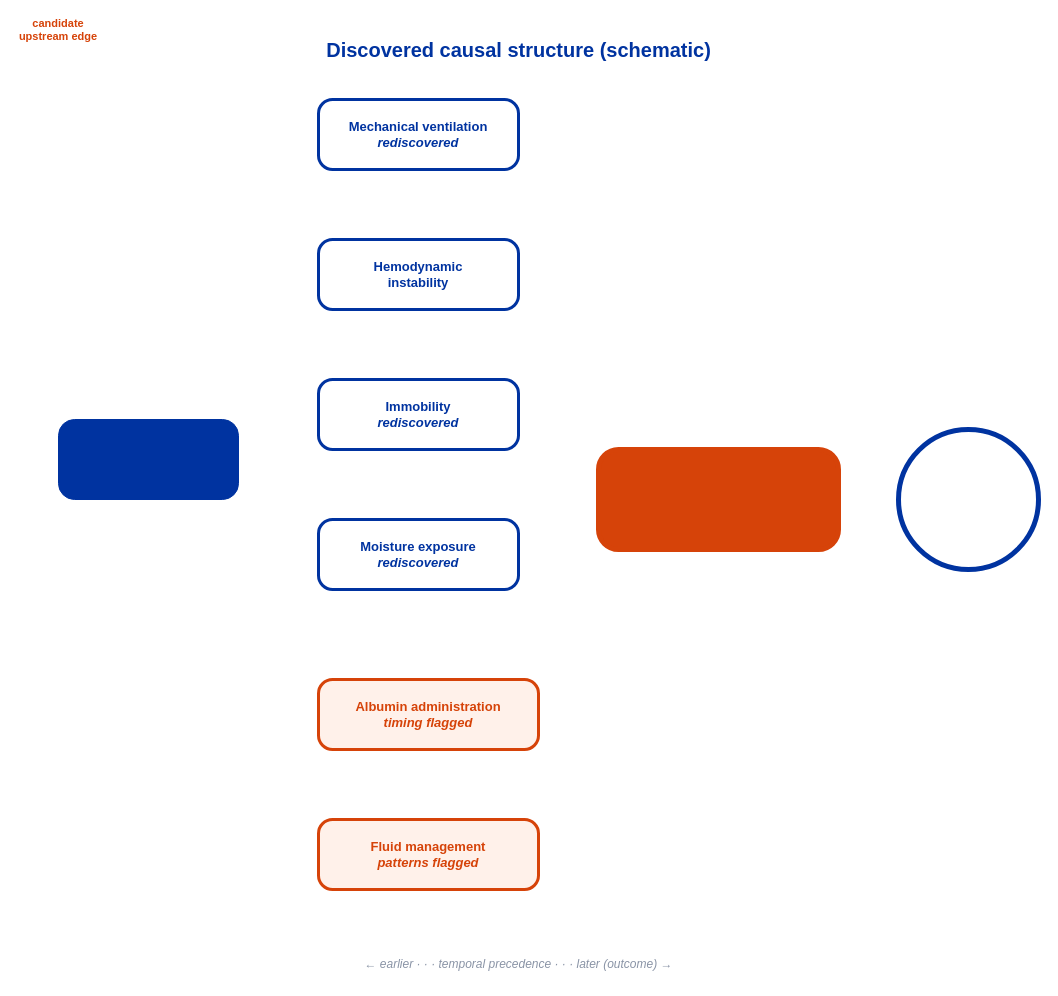
Image size: 1058x996. Some labels were removed from this diagram. The shapes that lost their labels are listed below. From the top down, each one's centre as x and y in pixels, then its label:
the point at 148,459: Critical illness ICU admission, sepsis
the point at 718,499: Hypoalbuminemia candidate upstream driver pending confirmatory TMLE
the point at 968,499: HAPrI outcome stage ≥ 2
